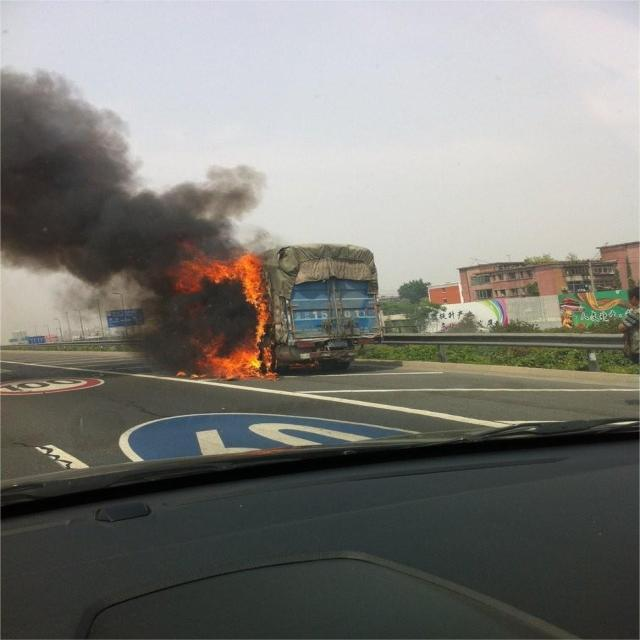Fire: (172, 254, 274, 377)
Smoke: (0, 66, 172, 288), (173, 163, 277, 254)
